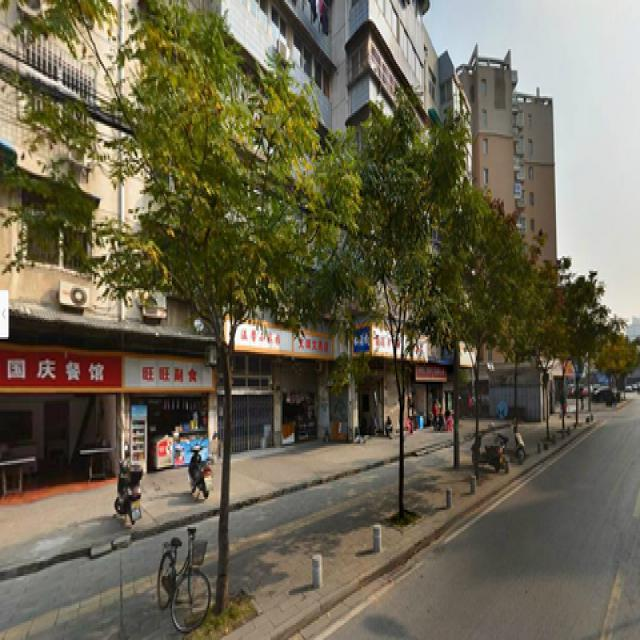koel: (86, 4, 330, 610)
